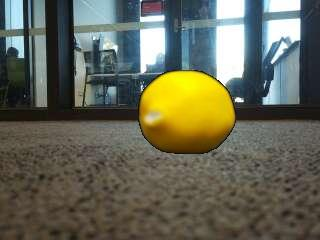lemon: (139, 70, 236, 154)
